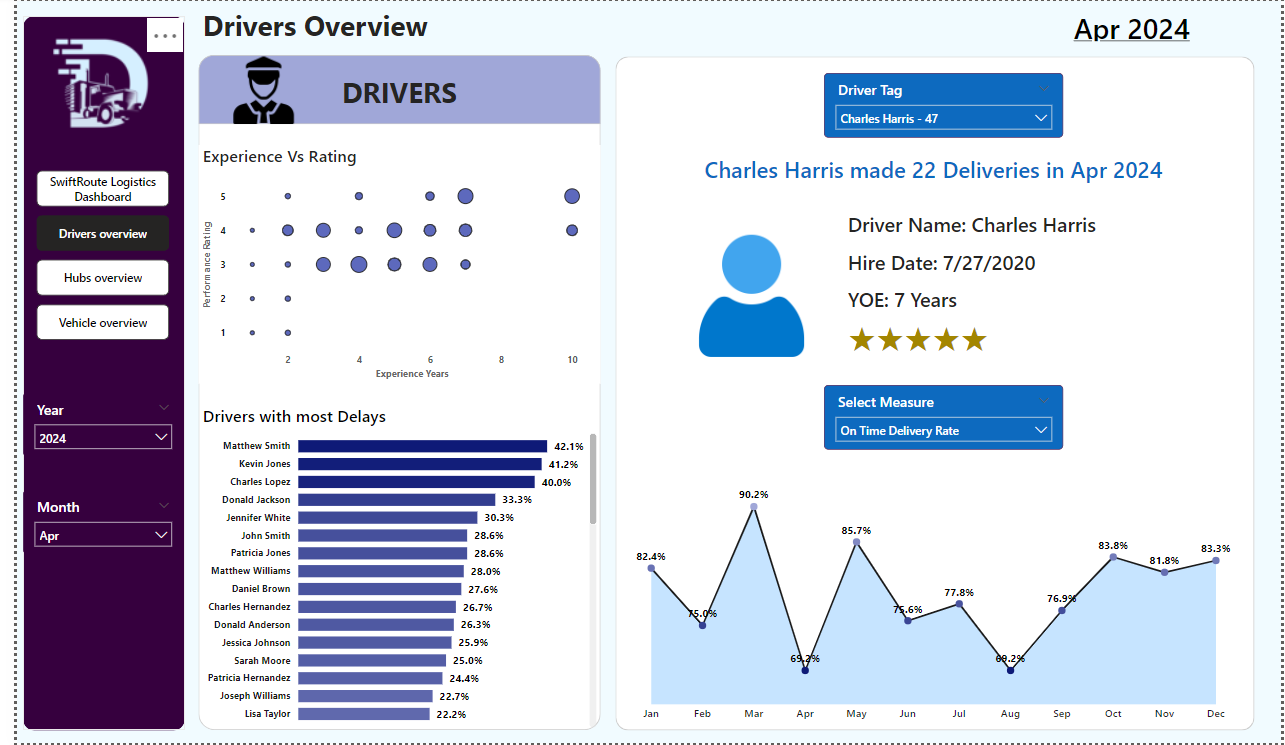

This screenshot's page, from the dashboard's own definition file:
{"tool":"powerbi","page":{"name":"Drivers overview","canvas":[1450,850],"ordinal":1},"visuals":[{"type":"shape","box":[6.2,16.7,185.4,818.8],"z":0},{"type":"textbox","box":[207.8,0,517.6,64.7],"z":1000},{"type":"slicer","fields":{"Values":["Date Table.Year"]},"box":[7.5,447.8,183.9,73.2],"z":2000},{"type":"slicer","fields":{"Values":["Date Table.Month"]},"box":[7.5,560.3,183.9,73.2],"z":3000},{"type":"shape","box":[207.5,62.3,460.4,773.6],"z":4000},{"type":"shape","box":[207.5,62.3,460.4,79.2],"z":5000},{"type":"textbox","box":[207.5,77.4,460.4,64.2],"z":6000},{"type":"scatterChart","title":"Experience Vs Rating","fields":{"X":["Drivers.Experience Years"],"Y":["Drivers.Performance Rating"],"Size":["Sum(Drivers.Experience Years)1"]},"box":[207.5,164.2,460.4,273.6],"z":8000},{"type":"barChart","title":"Drivers with most Delays","fields":{"Category":["Orders.Driver Name"],"Y":["Orders.Delayed Delivery Rate"]},"box":[207.1,462.5,460.7,375],"z":9000},{"type":"image","box":[1.9,32.1,190.6,132.1],"z":10000},{"type":"cardVisual","fields":{"Data":["Orders.Year Month Title"]},"box":[1137.7,11.3,279.2,39.6],"z":11000},{"type":"shape","box":[684.9,64.2,732.1,771.7],"z":12000},{"type":"slicer","fields":{"Values":["Drivers.Driver Tag"]},"box":[924,82,274,74],"z":13000},{"type":"cardVisual","fields":{"Data":["Drivers.Drivers Title"]},"box":[684,174,732,40],"z":14000},{"type":"cardVisual","fields":{"Data":["Drivers.Driver Name Title","Drivers.Hire Date Title","Drivers.YOE","Drivers.Star Rating"]},"box":[922,220,432,198],"z":15000},{"type":"image","box":[772,258,140,160],"z":16000},{"type":"areaChart","fields":{"Y":["Orders.On Time Delivery Rate"],"Category":["Date Table.Month Abr"]},"box":[698,522,704,312],"z":17000},{"type":"slicer","fields":{"Values":["Select Measure.Select Measure"]},"box":[924,440,274,74],"z":18000},{"type":"pageNavigator","box":[22.6,194.3,152.8,194.3],"z":19000},{"type":"image","box":[228.3,64.2,107.5,77.4],"z":19001}]}

Visuals, with their boxes on the page's 1450x850 design canvas (x1, y1, x2, y2). These are canvas units, not pixel positions in the 1285x745 screenshot, which may show the page scaled, cropped or inside an application window:
shape: (6, 17, 192, 836)
textbox: (208, 0, 725, 65)
slicer - Date Table.Year: (8, 448, 191, 521)
slicer - Date Table.Month: (8, 560, 191, 634)
shape: (208, 62, 668, 836)
shape: (208, 62, 668, 142)
textbox: (208, 77, 668, 142)
"Experience Vs Rating" scatterChart: (208, 164, 668, 438)
"Drivers with most Delays" barChart: (207, 462, 668, 838)
image: (2, 32, 192, 164)
cardVisual - Orders.Year Month Title: (1138, 11, 1417, 51)
shape: (685, 64, 1417, 836)
slicer - Drivers.Driver Tag: (924, 82, 1198, 156)
cardVisual - Drivers.Drivers Title: (684, 174, 1416, 214)
cardVisual - Drivers.Driver Name Title x Drivers.Hire Date Title: (922, 220, 1354, 418)
image: (772, 258, 912, 418)
areaChart - Orders.On Time Delivery Rate x Date Table.Month Abr: (698, 522, 1402, 834)
slicer - Select Measure.Select Measure: (924, 440, 1198, 514)
pageNavigator: (23, 194, 175, 389)
image: (228, 64, 336, 142)
